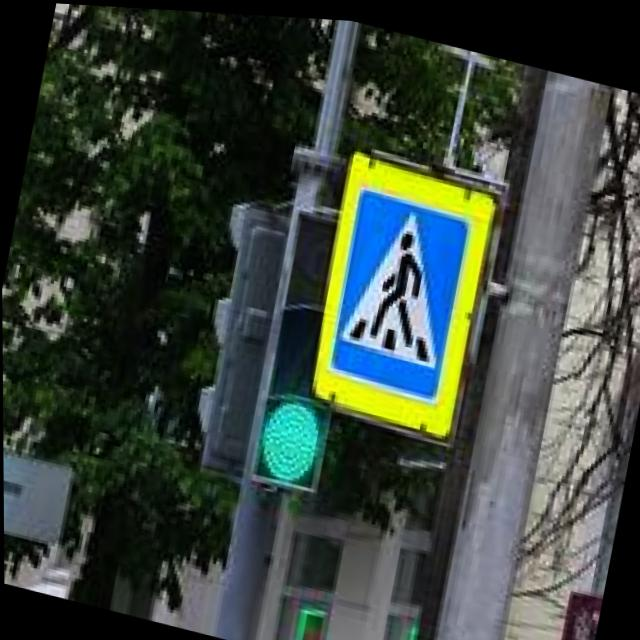green_light: (224, 363, 344, 511)
